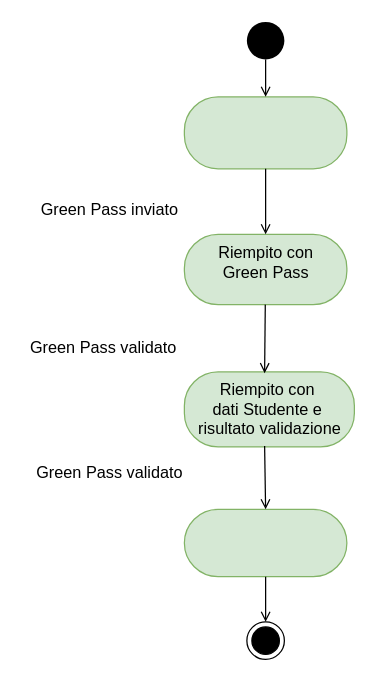
This 376x681 diagram has some shape labels left out. Here are the shapes that lost their labels. From the top down, the box of each, then its label:
(183, 96, 347, 169): Vuoto
(183, 508, 347, 577): Inserito nel report
